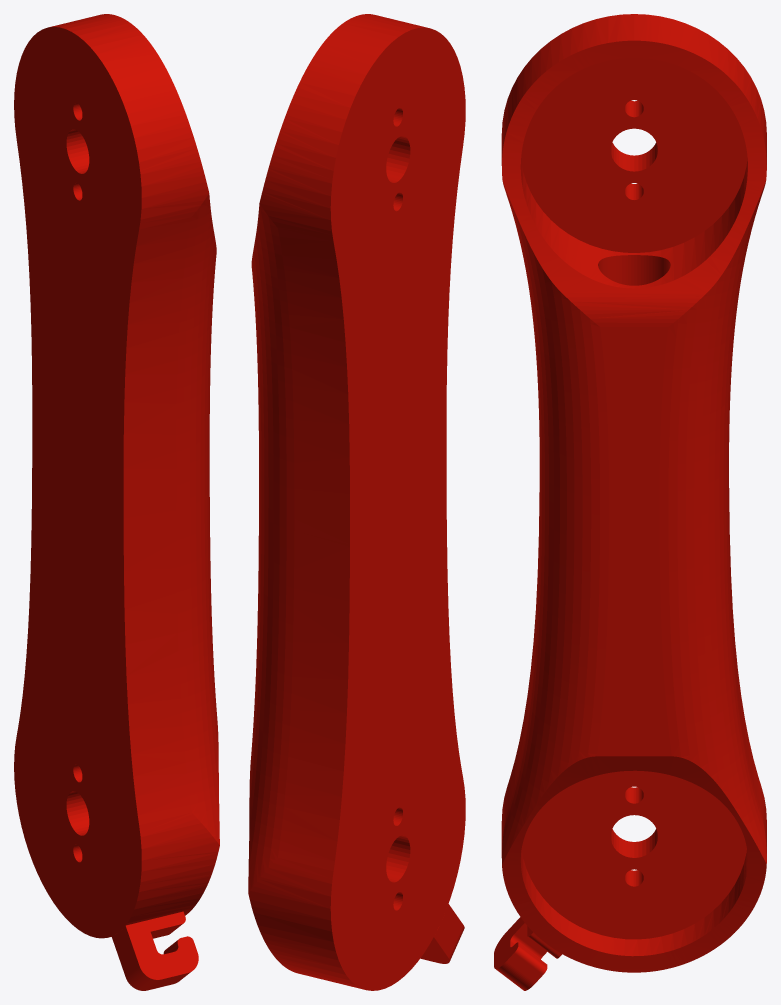
The model's file is pierwsze_ramie.obj.
The picture shows the model from 3 angles, left to right: view 1: azimuth 30°, elevation 25°; view 2: azimuth 150°, elevation 25°; view 3: azimuth 270°, elevation 25°; orthographic projection. The views are drawn at different scales.
Parts seen in each view (by area): view 1: Arm_01_Arm_01.004_Material; view 2: Arm_01_Arm_01.004_Material; view 3: Arm_01_Arm_01.004_Material.
Part boxes in pixels (bbox=[...]): Arm_01_Arm_01.004_Material: bbox=[14, 14, 219, 990]; Arm_01_Arm_01.004_Material: bbox=[248, 14, 465, 990]; Arm_01_Arm_01.004_Material: bbox=[494, 14, 766, 990].
Bounding box in the file's own units: 0.126 × 1 × 0.2593.
